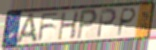A: (14, 12, 39, 45)
F: (36, 12, 60, 43)
H: (57, 10, 81, 41)
P: (75, 8, 99, 42), (95, 7, 118, 40), (115, 7, 138, 38)
